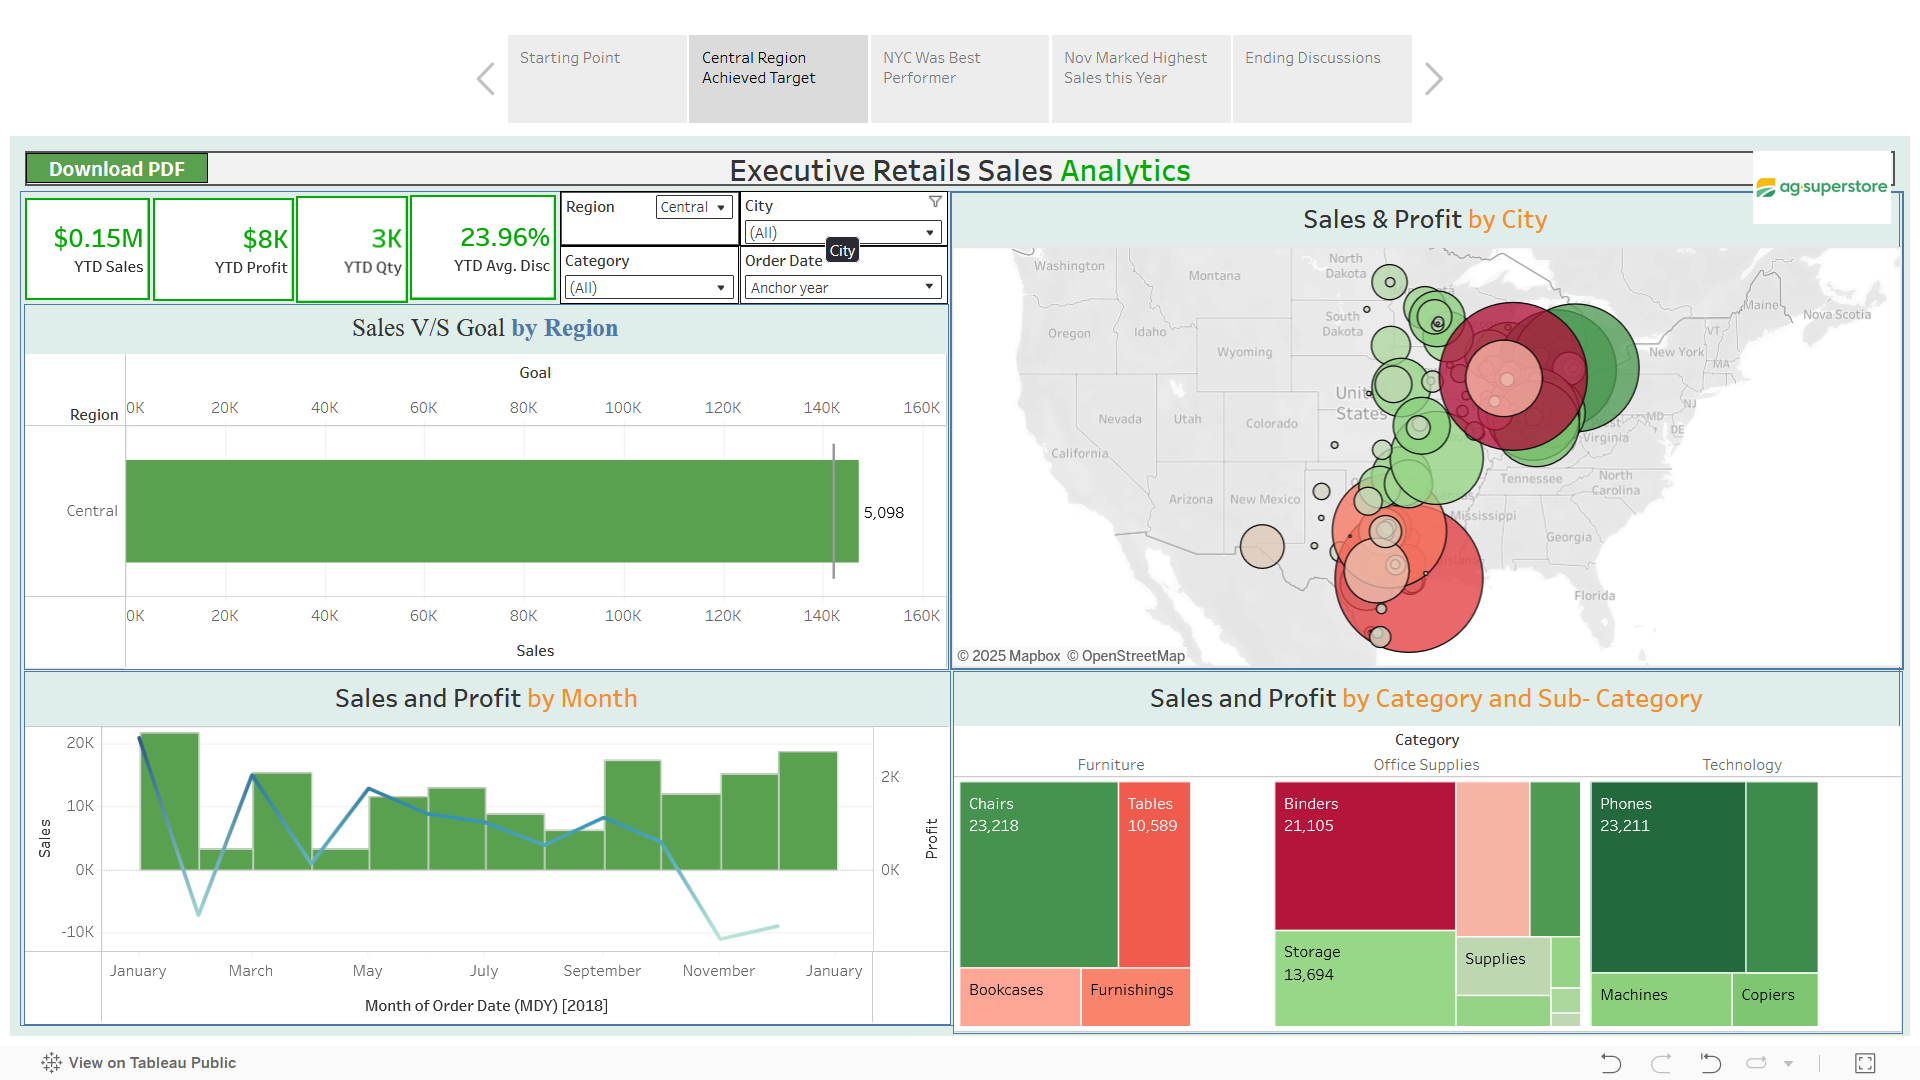

What the dashboard file says about the page in this screenshot:
{"tool":"tableau","page":{"name":"Dashboard 1","canvas":[1000,1000],"units":"permille","ordinal":0},"visuals":[{"type":"title","box":[4.8,10,990.4,49.9]},{"type":"dashboard-object","box":[8.4,17.5,95.6,33.7]},{"type":"filter","title":"RegionSalesvsGoal","param":"[federated.1u02box1ioevtw1h0fczs0g7tg69].[none:Region:nk]","box":[289.3,61.2,95,61.2]},{"type":"filter","title":"Sales&PrftByCity","param":"[federated.1u02box1ioevtw1h0fczs0g7tg69].[none:City:nk]","box":[384.3,61.2,109.4,61.2]},{"type":"worksheet","title":"Sales&PrftByCity","mark":"Automatic","box":[494.9,61.2,502.1,531.8]},{"type":"worksheet","title":"Discount","mark":"Automatic","box":[209.8,63.7,78.3,118.6]},{"type":"worksheet","title":"Qty","mark":"Automatic","box":[150,64.9,59.2,119.9]},{"type":"worksheet","title":"SalesCard","mark":"Automatic","box":[7.2,66.2,66.4,117.4]},{"type":"worksheet","title":"Profit","mark":"Automatic","box":[74.1,66.2,75.3,117.4]},{"type":"filter","title":"TreeMap","param":"[federated.1u02box1ioevtw1h0fczs0g7tg69].[none:Category:nk]","box":[289.3,122.4,94.4,63.7]},{"type":"filter","title":"Time Series","param":"[federated.1u02box1ioevtw1h0fczs0g7tg69].[tmn:Order Date (MDY):qk]","box":[384.3,122.4,109.4,63.7]},{"type":"worksheet","title":"RegionSalesvsGoal","mark":"Automatic","rows":["Region"],"cols":["Sales","Goal"],"box":[7.2,186,487,407]},{"type":"worksheet","title":"Time Series","mark":"Automatic","rows":["Sales","Profit"],"cols":["Order Date (MDY)"],"box":[7.2,594.3,488.2,393.3]},{"type":"worksheet","title":"TreeMap","mark":"Automatic","cols":["Category"],"box":[496.1,594.3,499.7,403.2]}]}

Visuals, with their boxes on the dashboard's canvas, which has no fixed pixel size, in thousandths of its width and height (x1, y1, x2, y2). These are canvas units, not pixel positions in the 1920x1080 screenshot, which may show the page scaled, cropped or inside an application window:
title: crop(5, 10, 995, 60)
dashboard-object: crop(8, 18, 104, 51)
"RegionSalesvsGoal" filter: crop(289, 61, 384, 122)
"Sales&PrftByCity" filter: crop(384, 61, 494, 122)
"Sales&PrftByCity" worksheet: crop(495, 61, 997, 593)
"Discount" worksheet: crop(210, 64, 288, 182)
"Qty" worksheet: crop(150, 65, 209, 185)
"SalesCard" worksheet: crop(7, 66, 74, 184)
"Profit" worksheet: crop(74, 66, 149, 184)
"TreeMap" filter: crop(289, 122, 384, 186)
"Time Series" filter: crop(384, 122, 494, 186)
"RegionSalesvsGoal" worksheet: crop(7, 186, 494, 593)
"Time Series" worksheet: crop(7, 594, 495, 988)
"TreeMap" worksheet: crop(496, 594, 996, 998)
